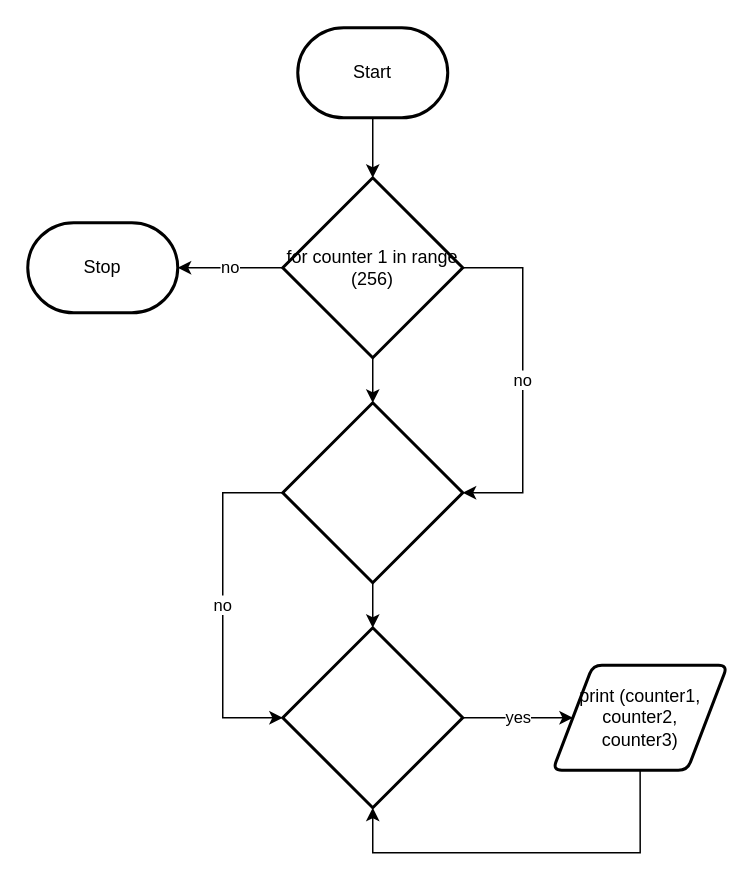
The diagram is 755 pixels wide and 891 high, and some of its shapes have lost their labels. Each missing label, with the centre of its shape:
"for counter 2 in range (256)" goes at [372,492].
"for counter 3 in range (256)" goes at [372,717].
